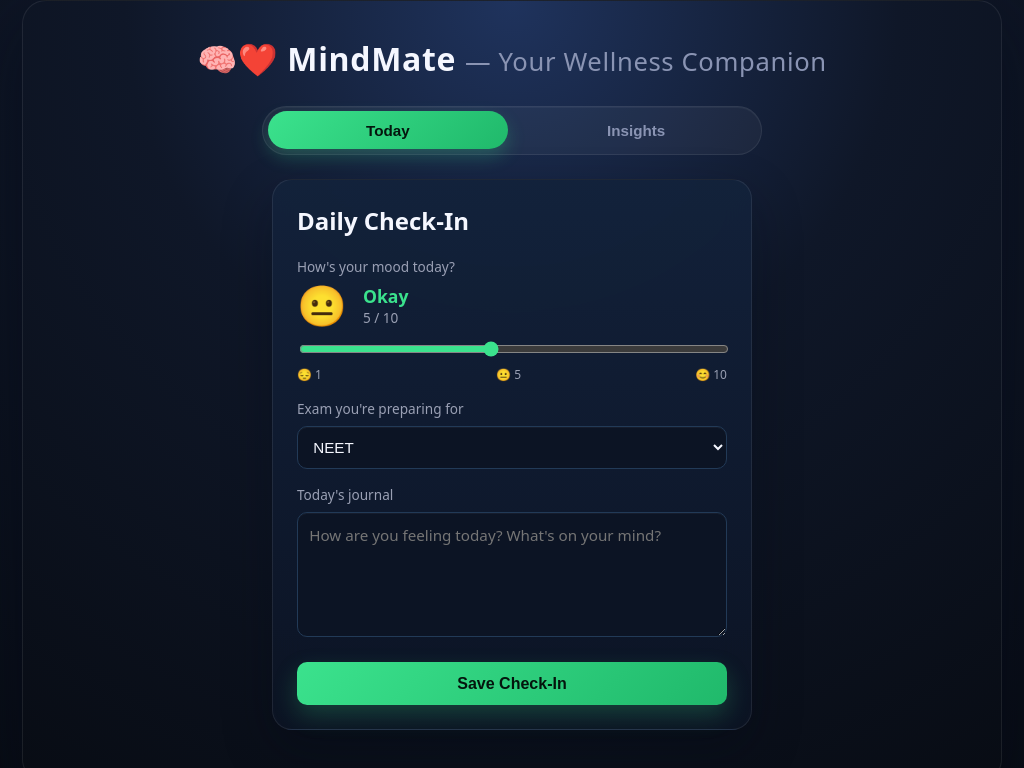
Scenario: App › transitions from logging to the chat after a check-in
Expected: the heading "Daily Check-In" is shown, [297, 204, 469, 237]
Click the button "Save Check-In": (512, 684) [297, 662, 727, 705]
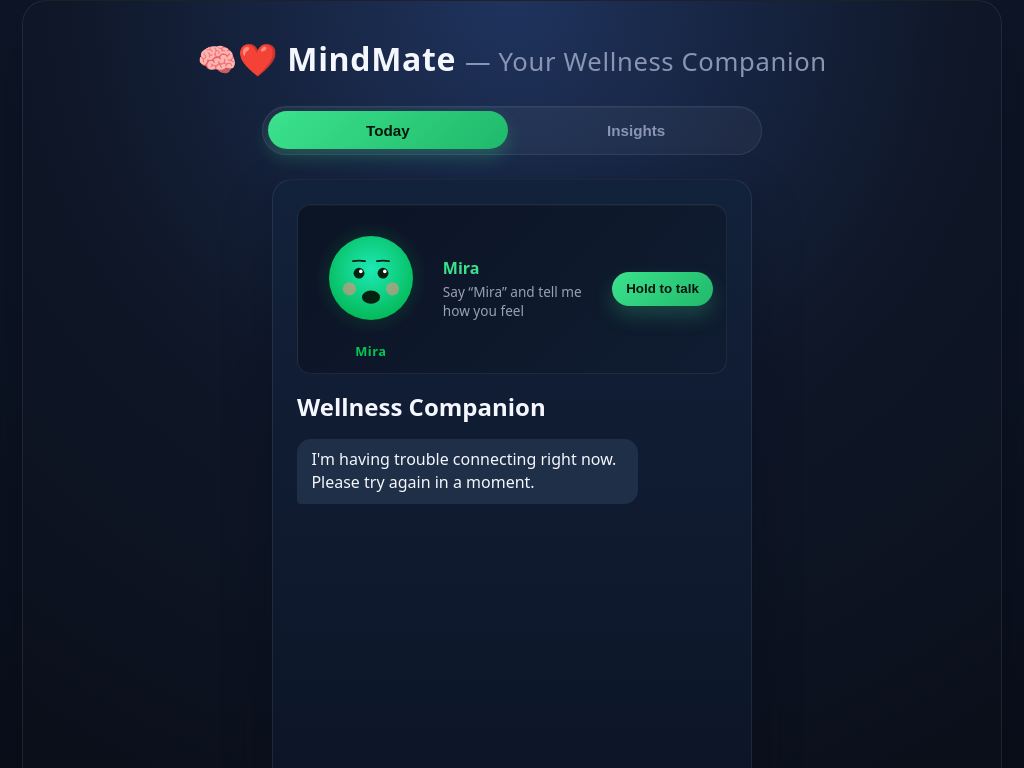
Expected: the heading "Wellness Companion" is shown, [297, 390, 546, 423]
